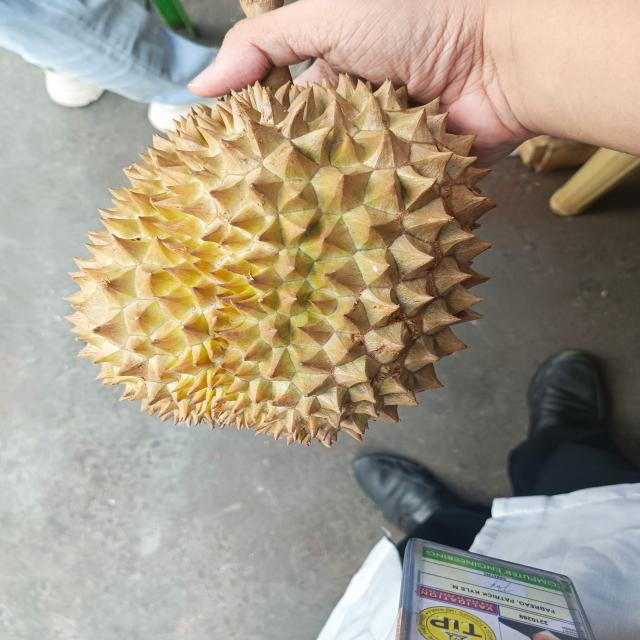mature: (62, 76, 494, 442)
